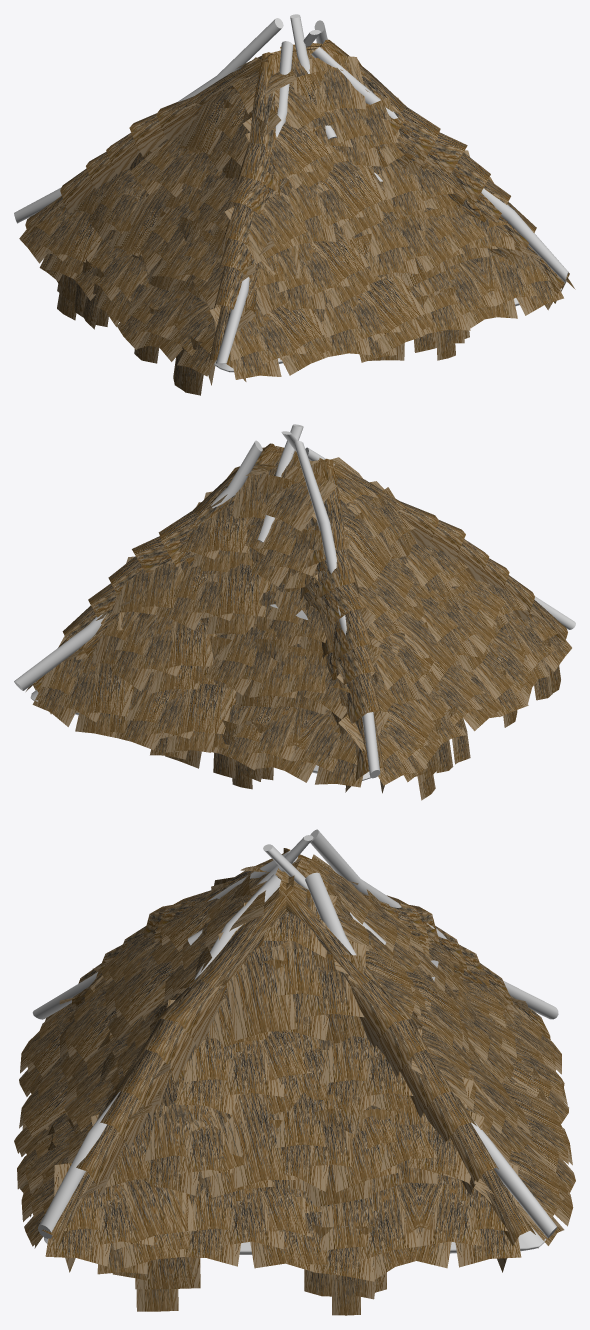
Rendered from SM_roofTop6mx6m_a1.fbx.
3 renders of one model, top to bottom at view 1: azimuth 30°, elevation 25°; view 2: azimuth 150°, elevation 25°; view 3: azimuth 270°, elevation 25°, orthographic. The views are drawn at different scales.
Parts seen in each view (by area): view 1: SM_roofTop6mx6m_a1_LOD0; view 2: SM_roofTop6mx6m_a1_LOD0; view 3: SM_roofTop6mx6m_a1_LOD0.
Boxes of the visible parts, x1,y1,x2,y2 form: SM_roofTop6mx6m_a1_LOD0: (14,14,575,395); SM_roofTop6mx6m_a1_LOD0: (14,424,575,800); SM_roofTop6mx6m_a1_LOD0: (14,829,575,1315).
Bounding box in the file's own units: 828 × 803 × 574.
4 materials, 1 textured.
